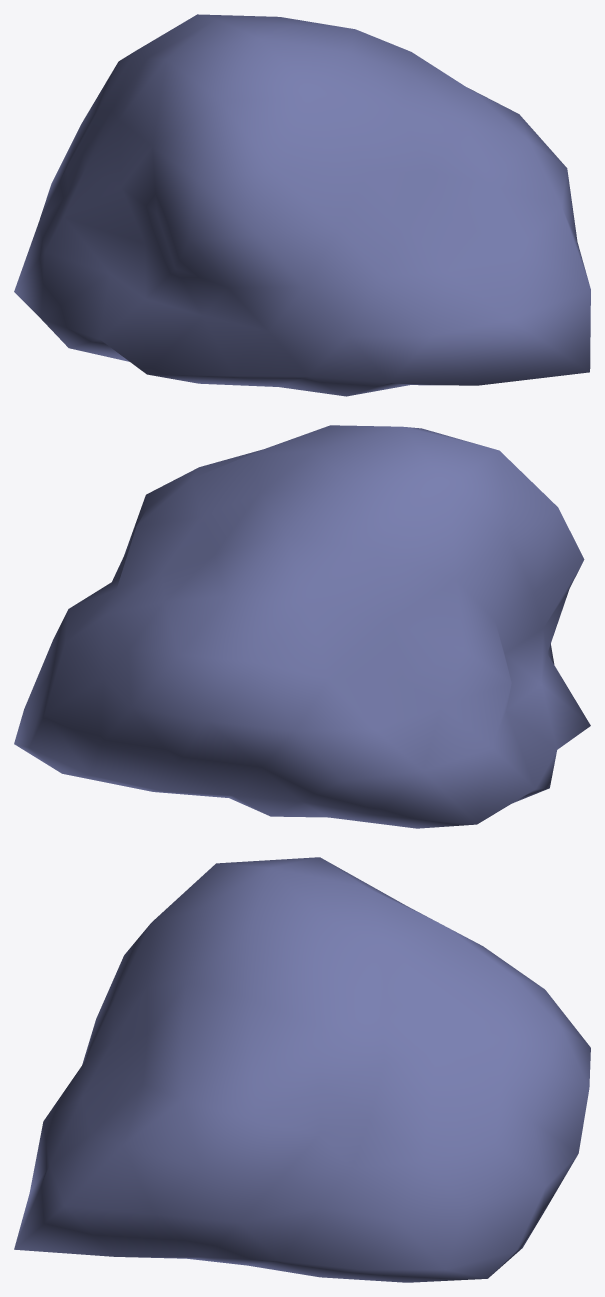
Rendered from rock.fbx.
3 views of the same model, one above another, from view 1: azimuth 30°, elevation 25°; view 2: azimuth 150°, elevation 25°; view 3: azimuth 270°, elevation 25° (orthographic). The views are drawn at different scales.
Visible parts, largest first — view 1: rock; view 2: rock; view 3: rock.
Boxes of the visible parts, x1,y1,x2,y2 form: rock: (14, 14, 590, 396); rock: (14, 425, 590, 828); rock: (14, 857, 590, 1282).
Bounding box in the file's own units: 1.84 × 1.12 × 2.07.
